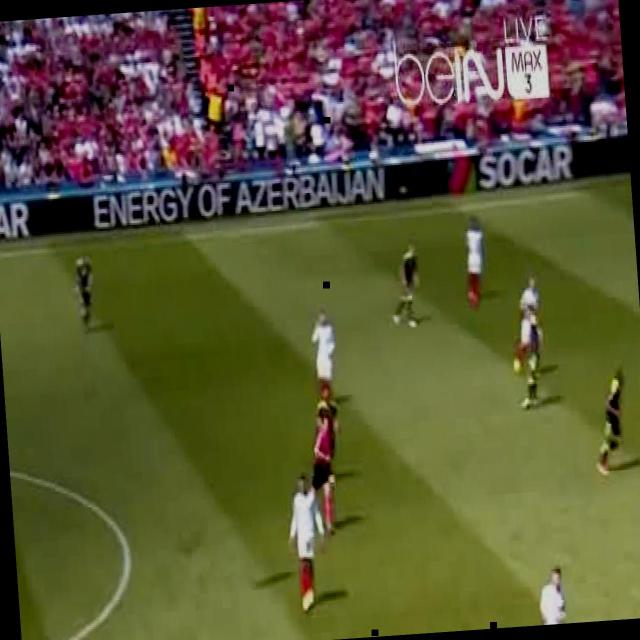player-white: (282, 474, 331, 617), (587, 365, 631, 478), (302, 418, 341, 538), (505, 273, 547, 369), (313, 380, 345, 490), (308, 309, 341, 415), (387, 242, 425, 330), (517, 316, 551, 409), (458, 212, 488, 306), (526, 562, 567, 626), (72, 254, 97, 336)
